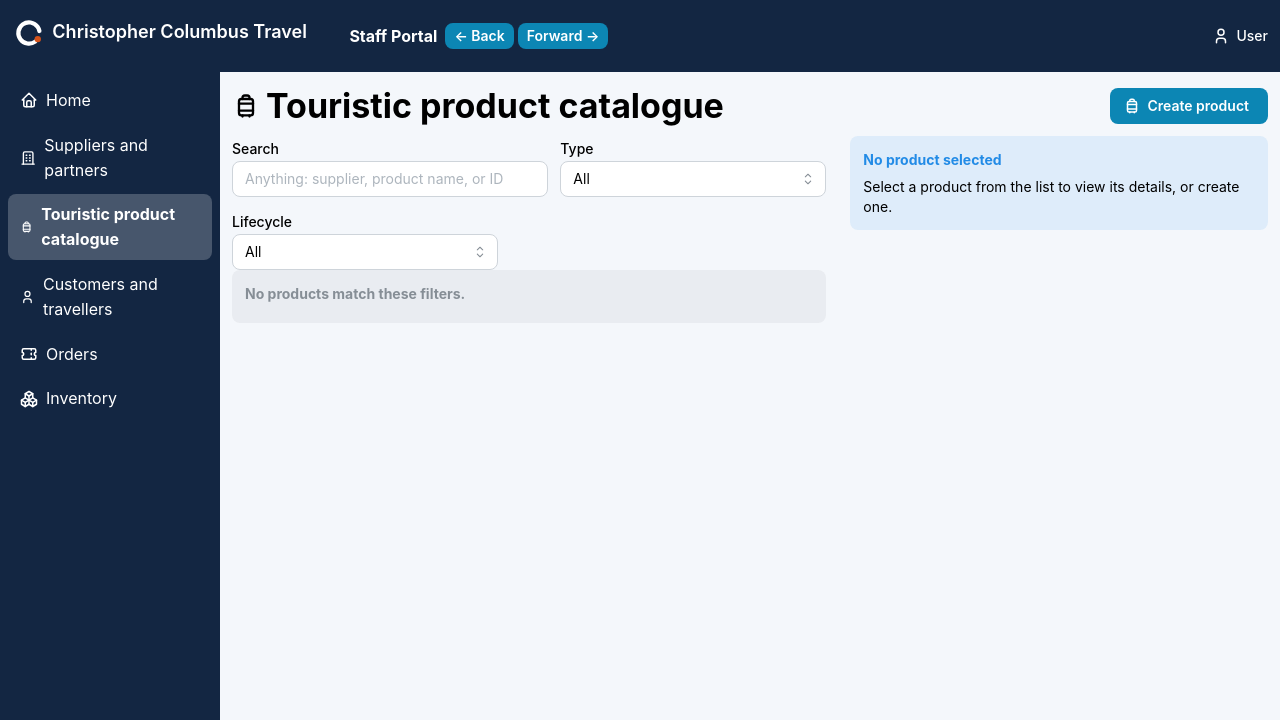
ProductsRoute (VIEW-S-003 tree view, issue #31 follow-up) › shows the create-product form inline in the right pane
The image size is (1280, 720).
Expected: the text "No products match these filters." is shown, x1=245 y1=283 x2=465 y2=304
Step 1. Click the button "Create product" → (1189, 106), box x1=1110 y1=88 x2=1268 y2=124
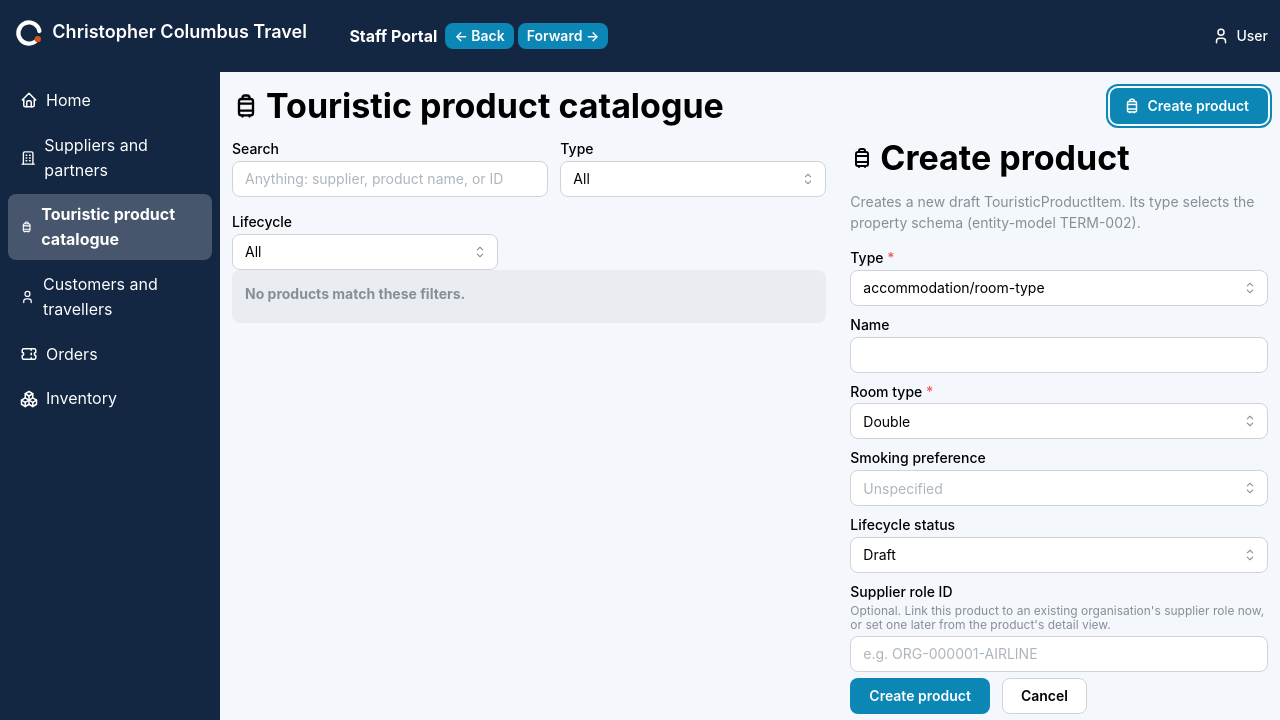
Result: the heading "Create product" is shown at x1=880 y1=136 x2=1130 y2=180
